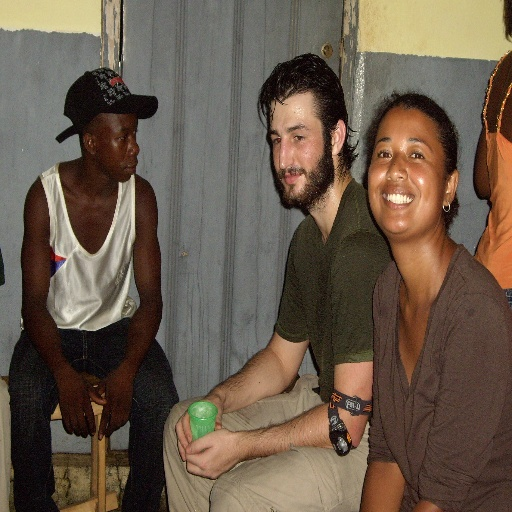hand: (58, 371, 106, 439), (174, 398, 224, 463), (89, 368, 134, 440)
